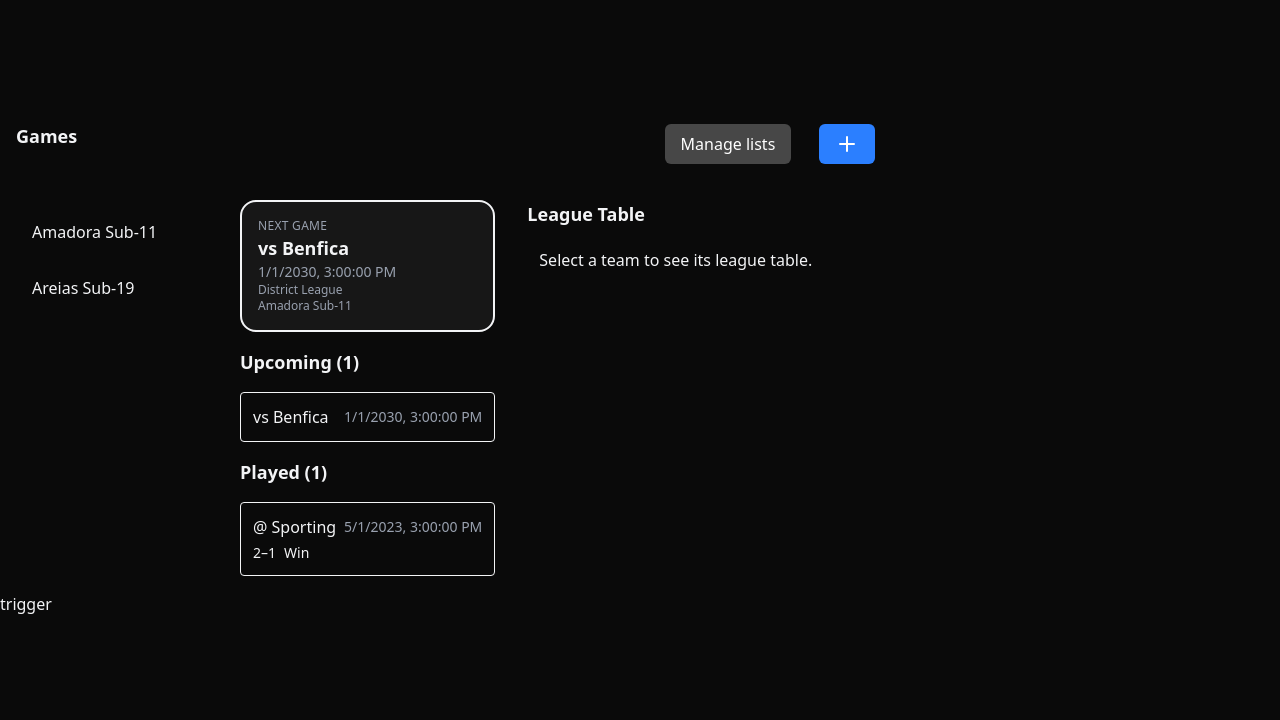
Test: creating a game outside the active filter keeps the filter and reports where it went (same contract as 03 TTA-04.3)
Expected: the button "Amadora Sub-11" is shown, [16,208,208,256]
Click the button "Areias Sub-19".
click(112, 288)  # box [16,264,208,312]
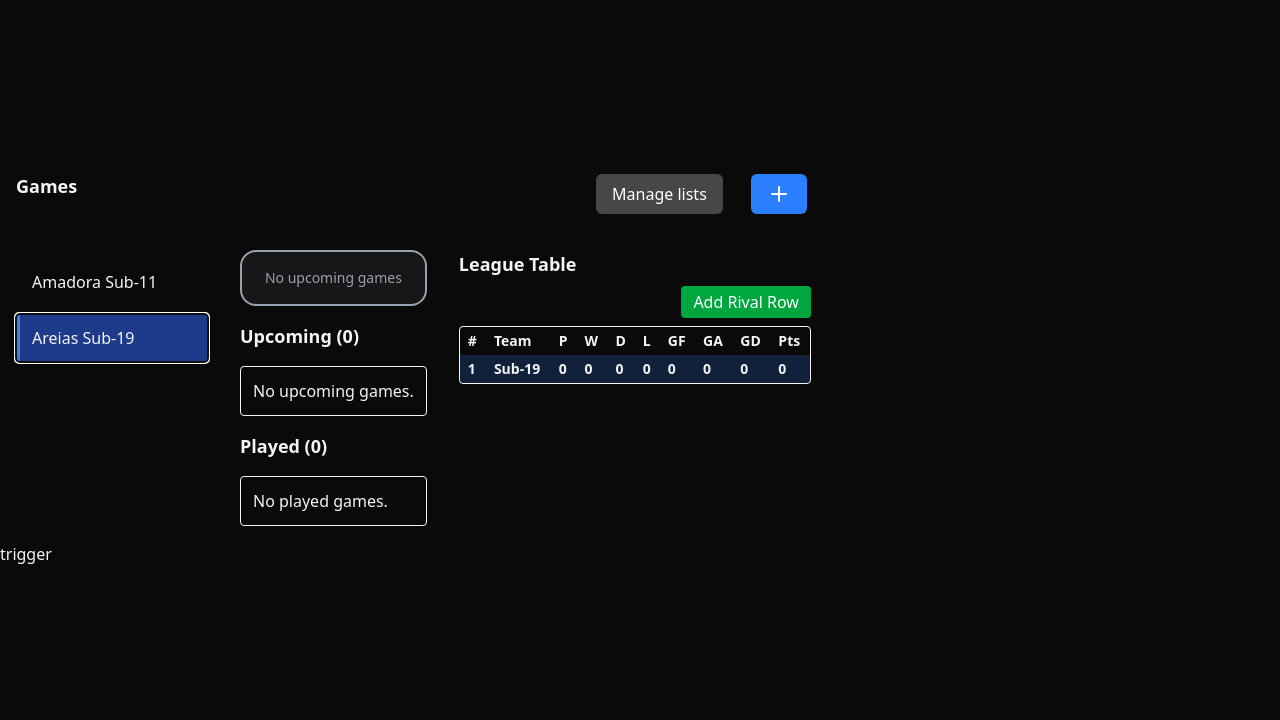
Expected: no the list item "vs Benfica 1/1/2030, 3:00:00 PM" are shown
Click the 2nd button.
click(779, 194)  # box [751,174,807,214]
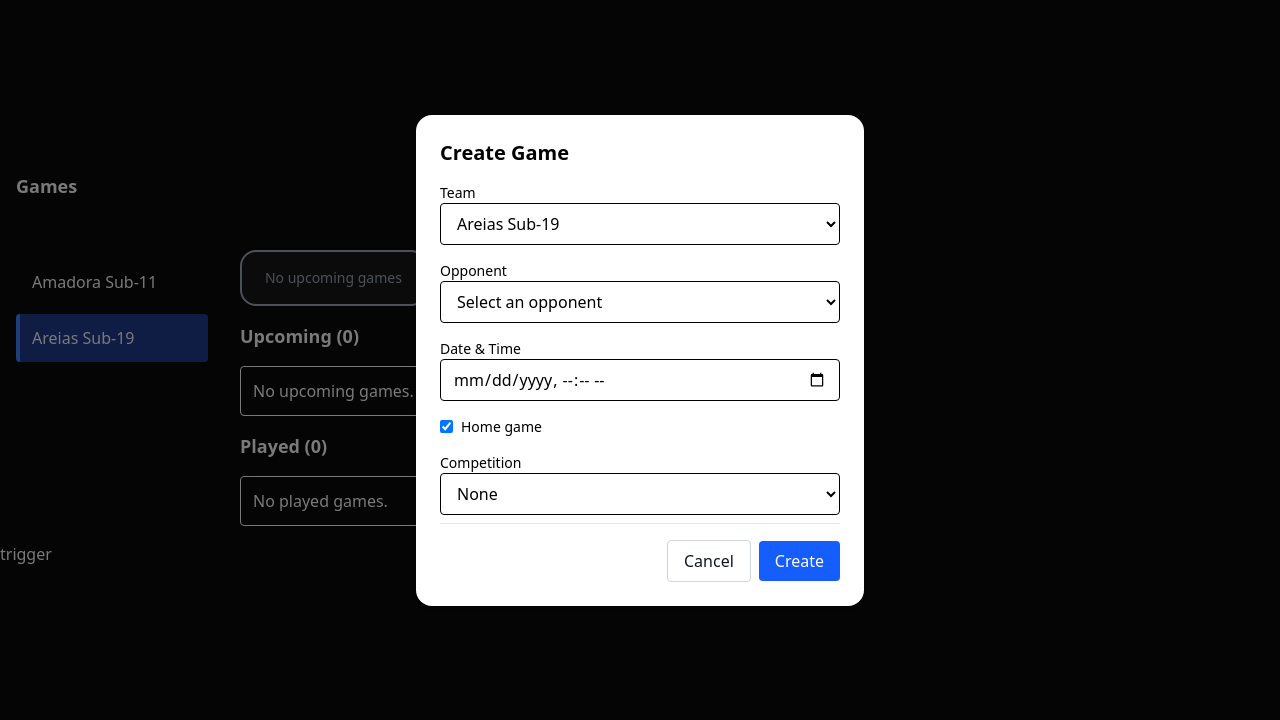
Select "Amadora Sub-11" in the dropdown named "teamId" at (640, 224), box [440,202,840,244]
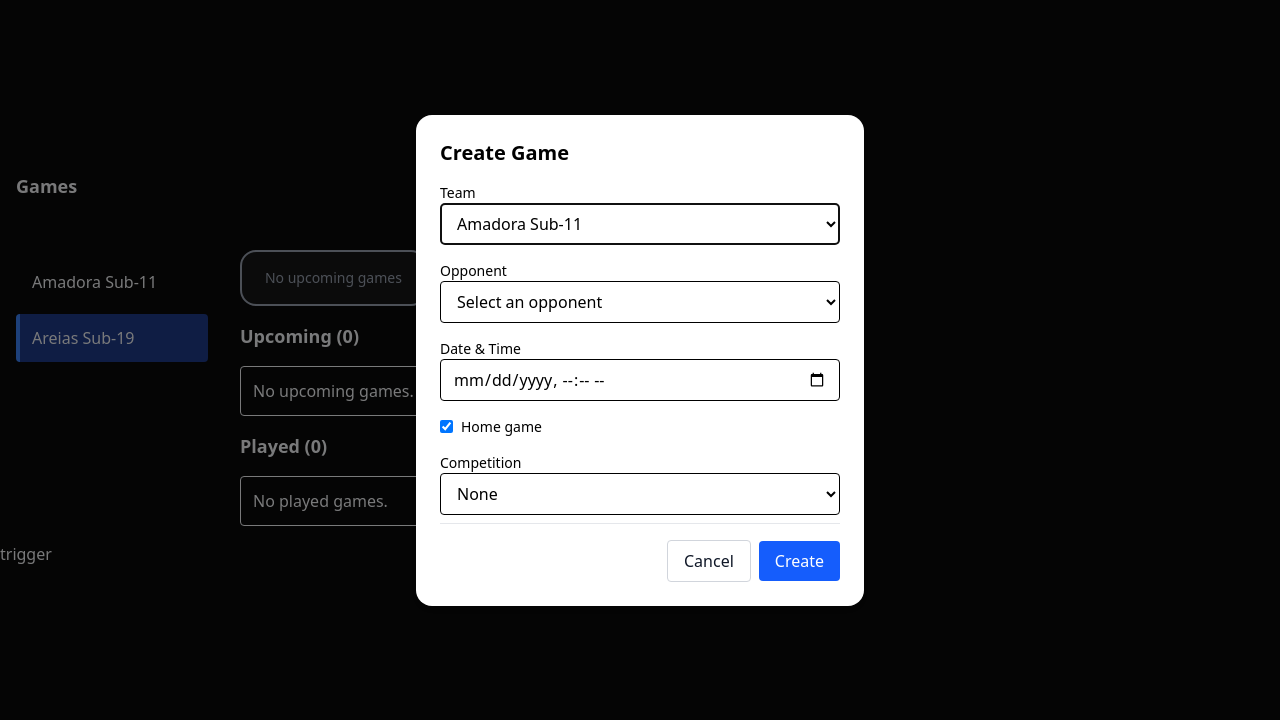
Select "Sporting" in the dropdown labelled "Opponent" at (640, 302), box [440,280,840,322]
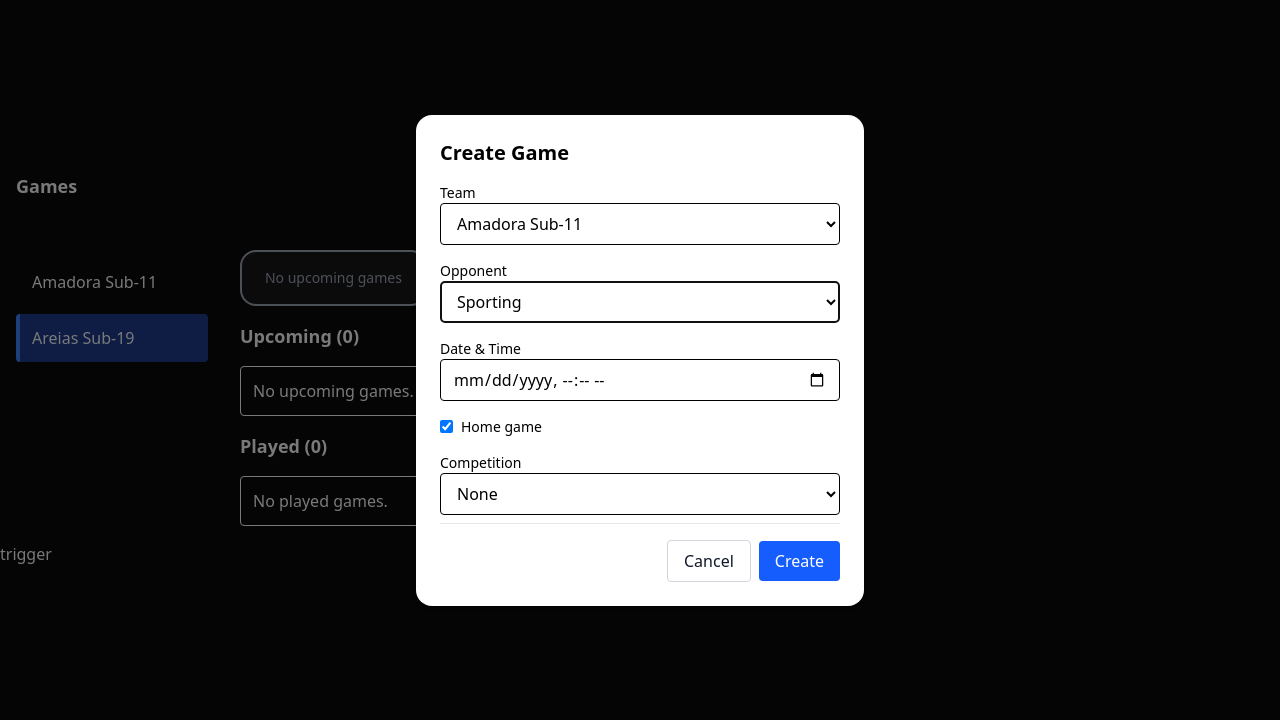
Type "2027-01-01T10:00" into the field.
click(640, 380); type("2027-01-01T10:00")  # box [440,358,840,400]
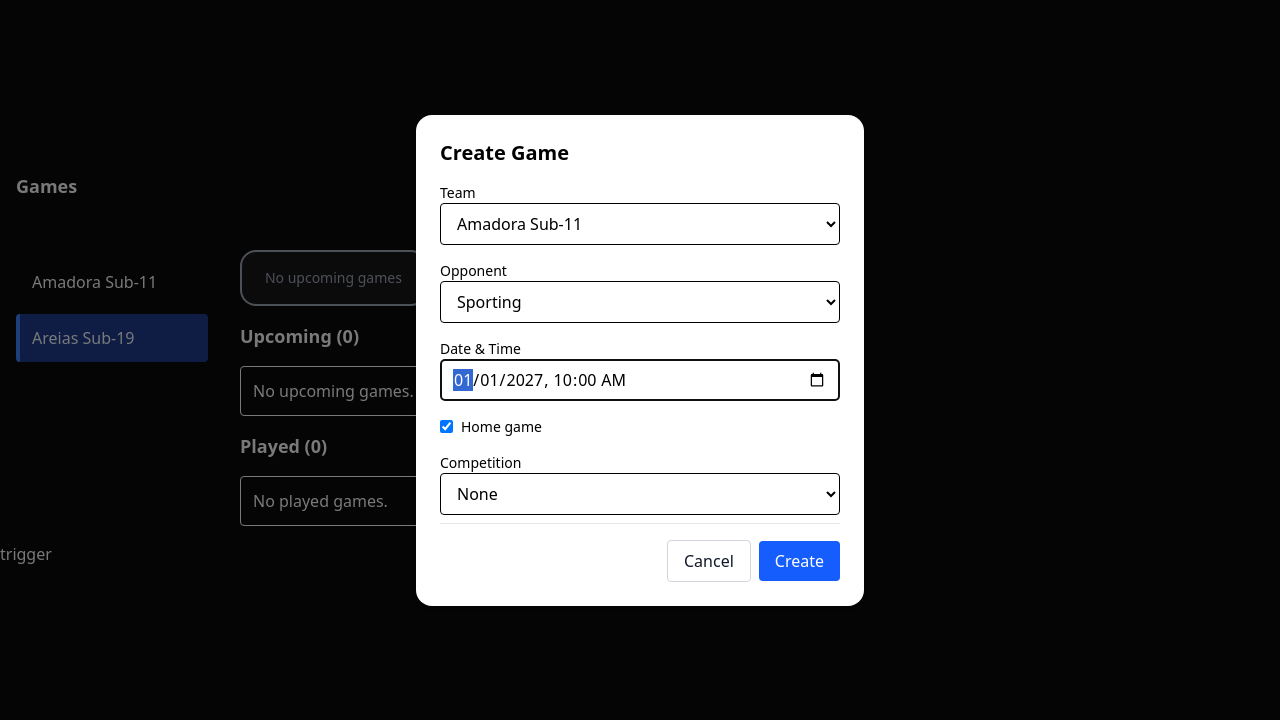
Click the button "Create".
click(799, 560)  # box [759,540,840,580]
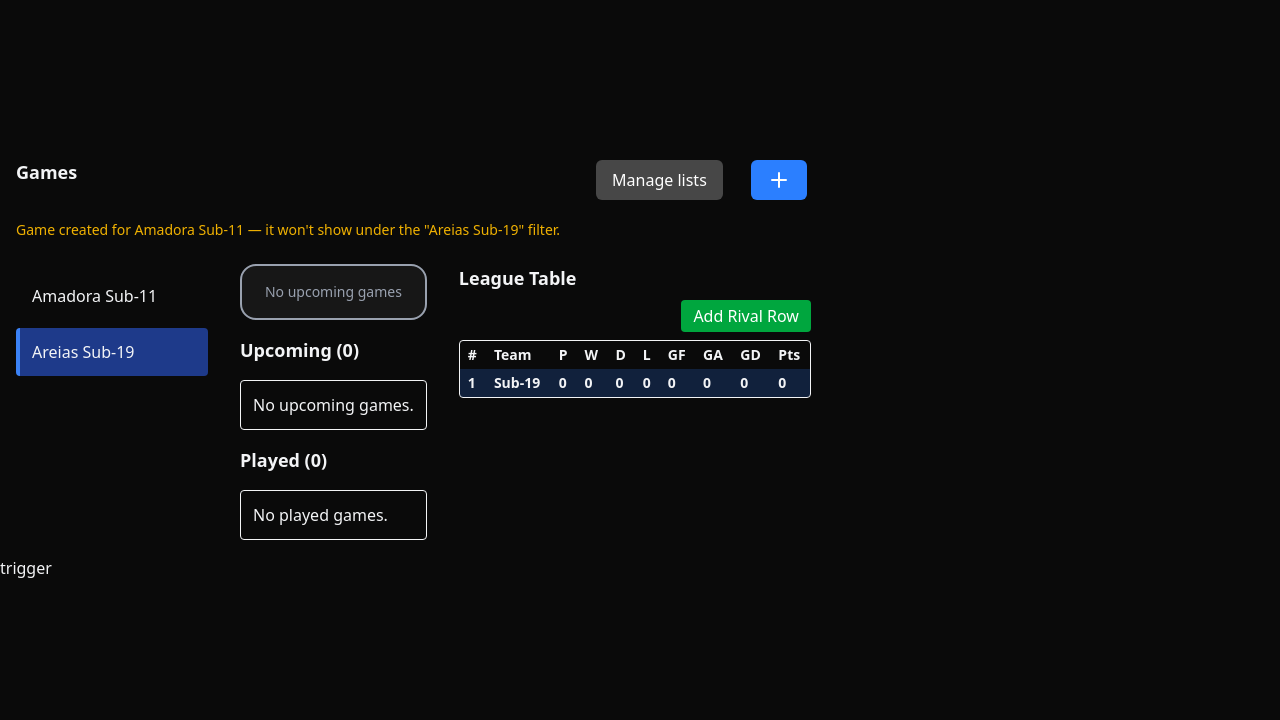
Expected: the text "Game created for Amadora Sub-11" is shown, [16,220,560,239]
